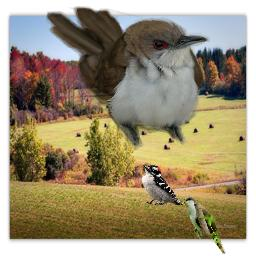Cuckoo: (46, 6, 210, 152), (179, 196, 227, 254)
Woodpecker: (141, 165, 183, 205)
